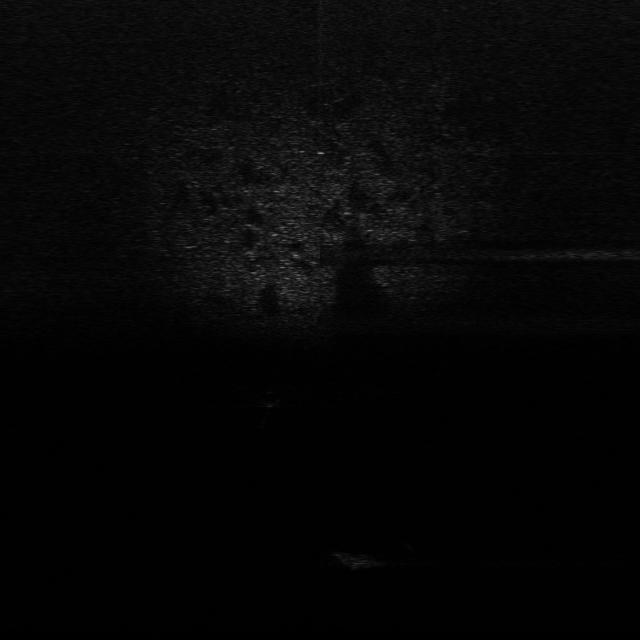ball: (250, 382, 286, 408)
metal bucket: (330, 544, 390, 571)
